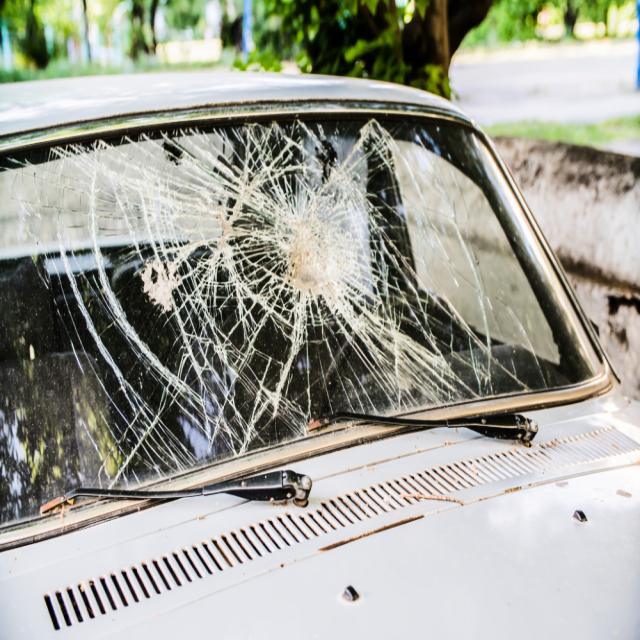glass shatter: (0, 110, 603, 534)
